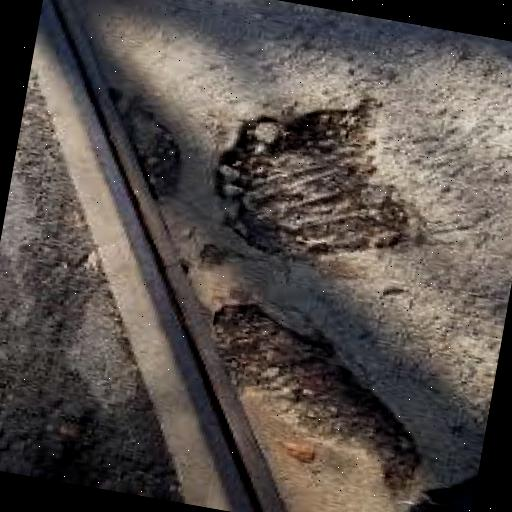spalling: (207, 304, 430, 501), (217, 112, 416, 261)
